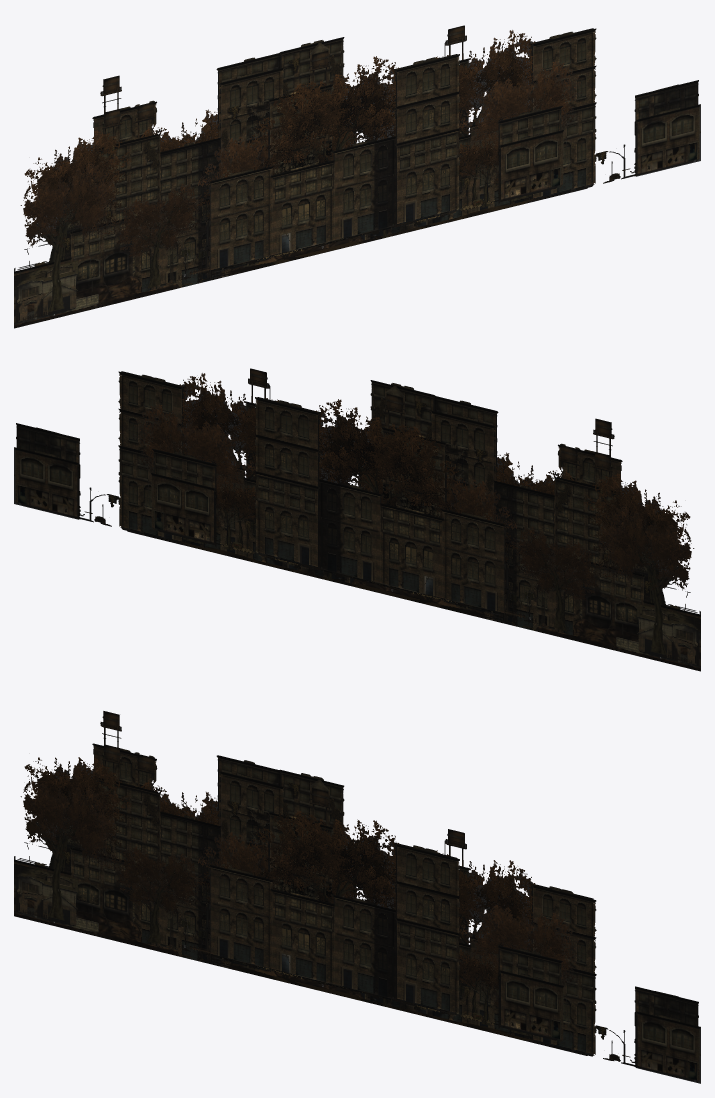
3 renders of one model, top to bottom at view 1: azimuth 30°, elevation 25°; view 2: azimuth 150°, elevation 25°; view 3: azimuth 330°, elevation 25°, orthographic.
Parts seen in each view (by area): view 1: Back_Drop_png; view 2: Back_Drop_png; view 3: Back_Drop_png.
Part boxes in pixels (left/top/right/bottom): Back_Drop_png: left=14, top=25, right=700, bottom=328; Back_Drop_png: left=14, top=368, right=700, bottom=671; Back_Drop_png: left=14, top=711, right=700, bottom=1083.
Size of the model in its own units: 14.7 by 4.9 by 3.7e-07.
